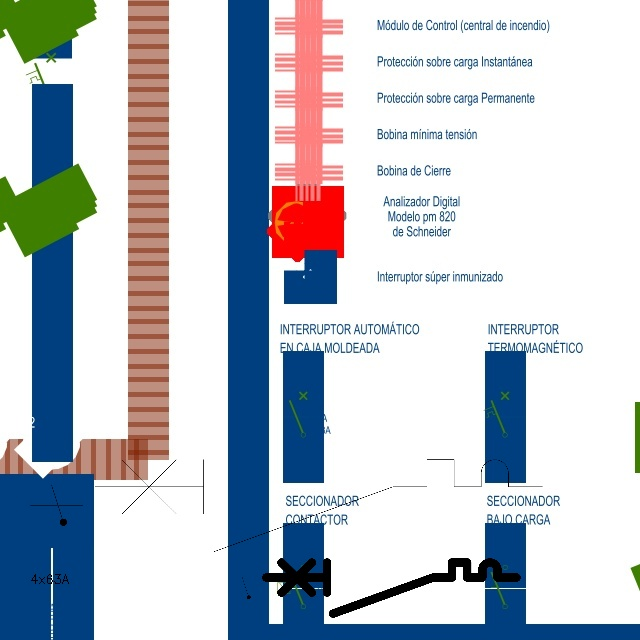interruptor_termomagnetico: (83, 448, 554, 563), (259, 556, 523, 620)
